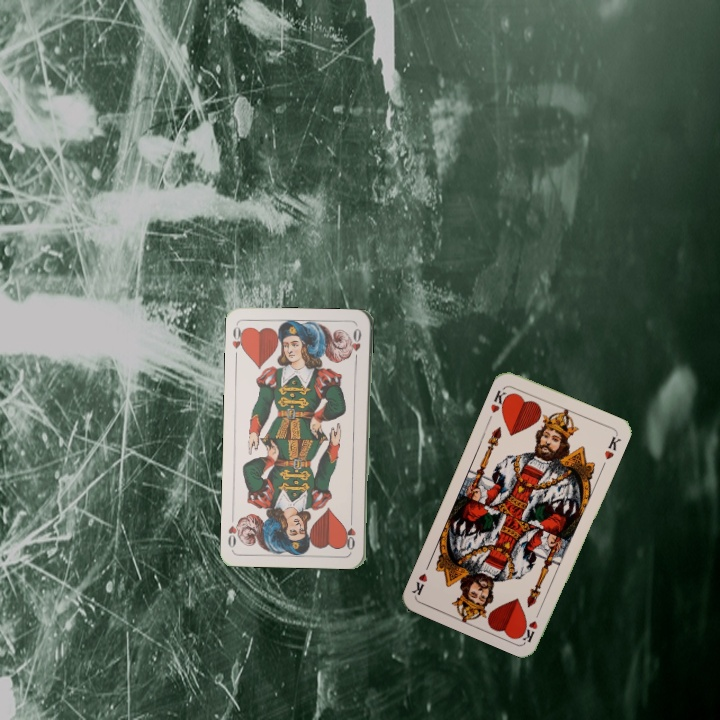HK: (518, 604, 544, 644), (486, 384, 512, 416)
HO: (228, 321, 248, 362), (344, 512, 358, 552)
